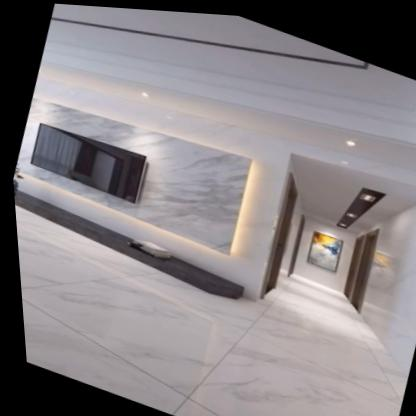Ceramic floor: (12, 203, 402, 416)
